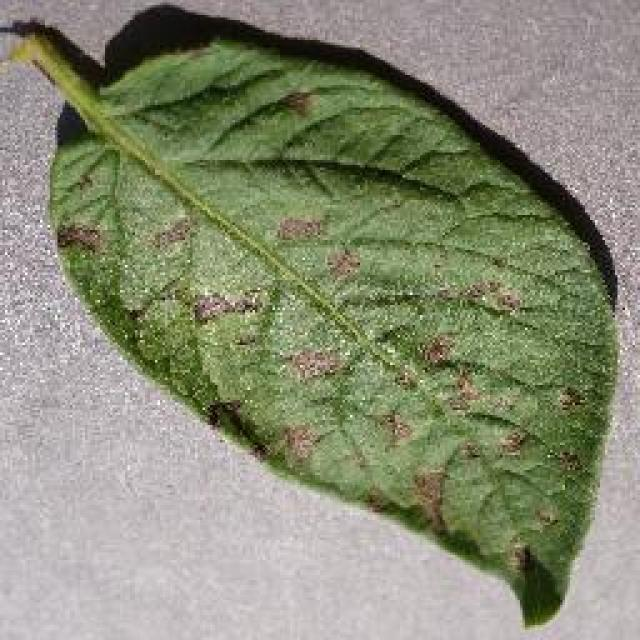Potato___Early_blight: (0, 29, 624, 635)
